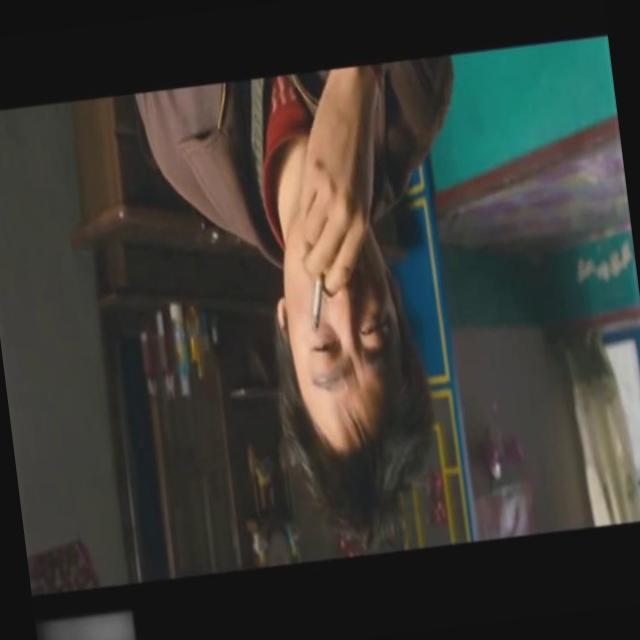smoke: (300, 264, 332, 338)
